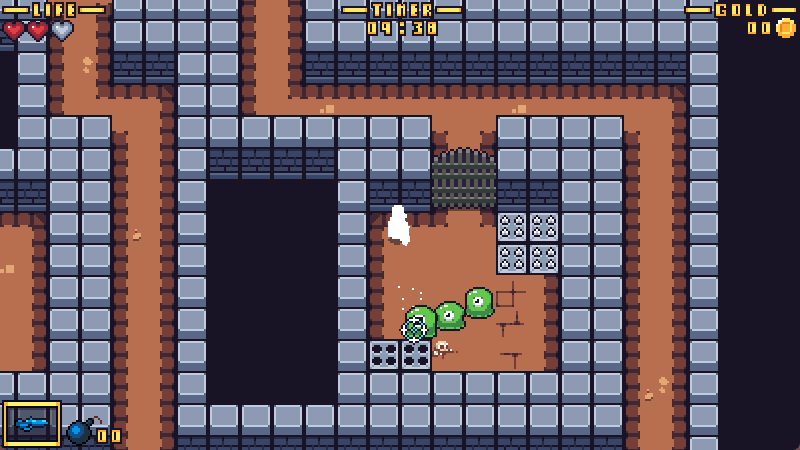aim: (398, 314, 429, 342)
bomb_counter_0: (66, 415, 122, 450)
enemy_slug_big: (404, 304, 437, 341), (464, 287, 496, 320), (433, 300, 465, 332)
gold_counter: (686, 1, 800, 39)
health-2: (1, 19, 78, 44)
player_hit: (384, 200, 413, 248)
timer: (343, 1, 461, 35)
trap_door: (431, 146, 497, 209)
trap_off: (369, 340, 431, 373)
trap_warning: (497, 211, 562, 274)
